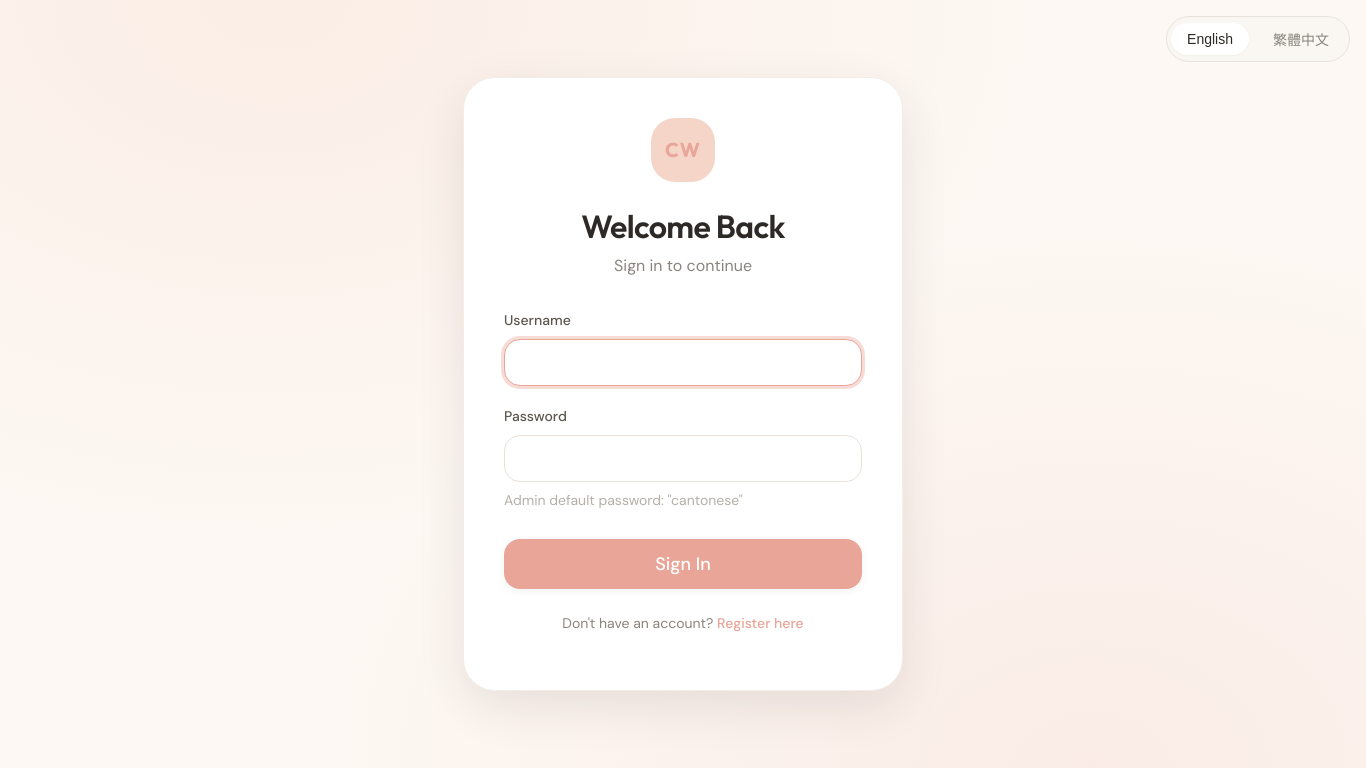
Test: LoginPage › should show error on invalid login
Type "invalid" into the field labelled "Username" at (683, 362), box [504,339,862,386]
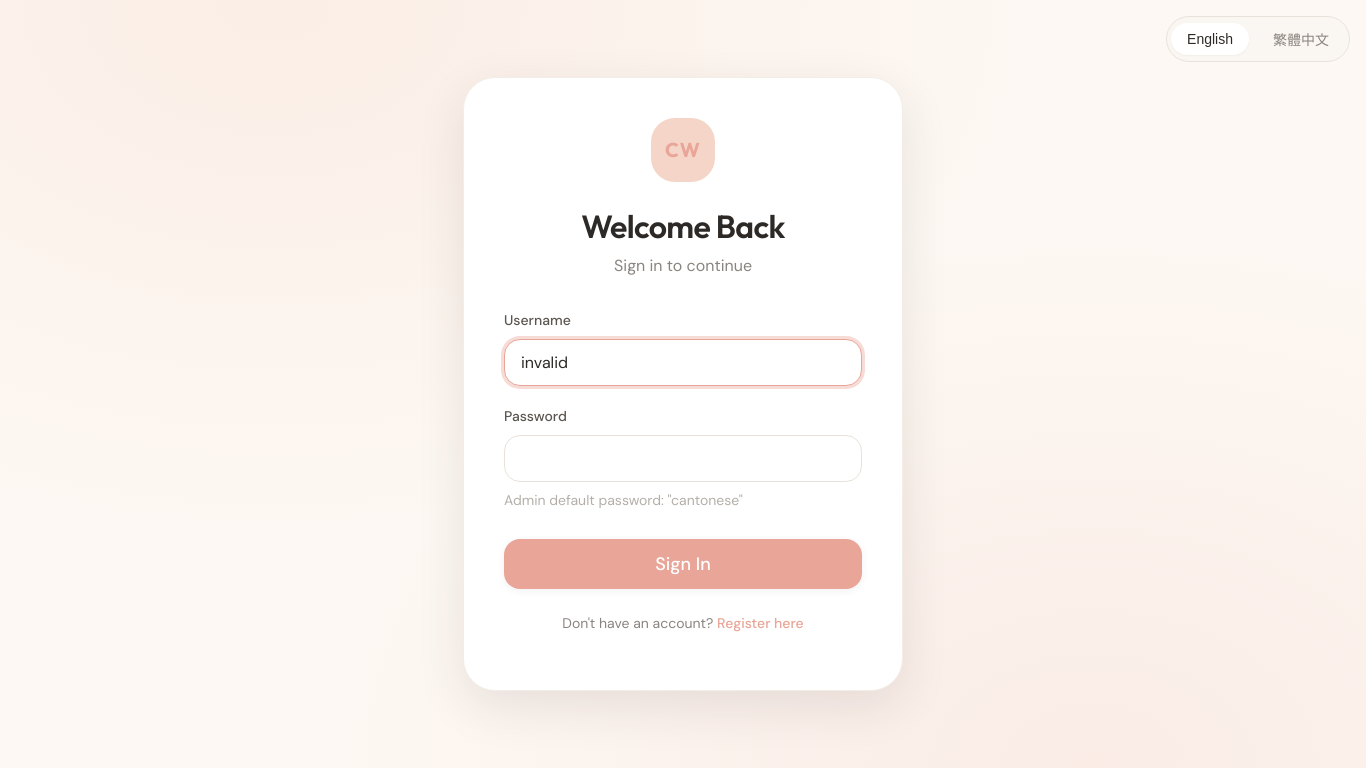
Type "wrong" into the password field labelled "Password" at (683, 458), box [504,435,862,482]
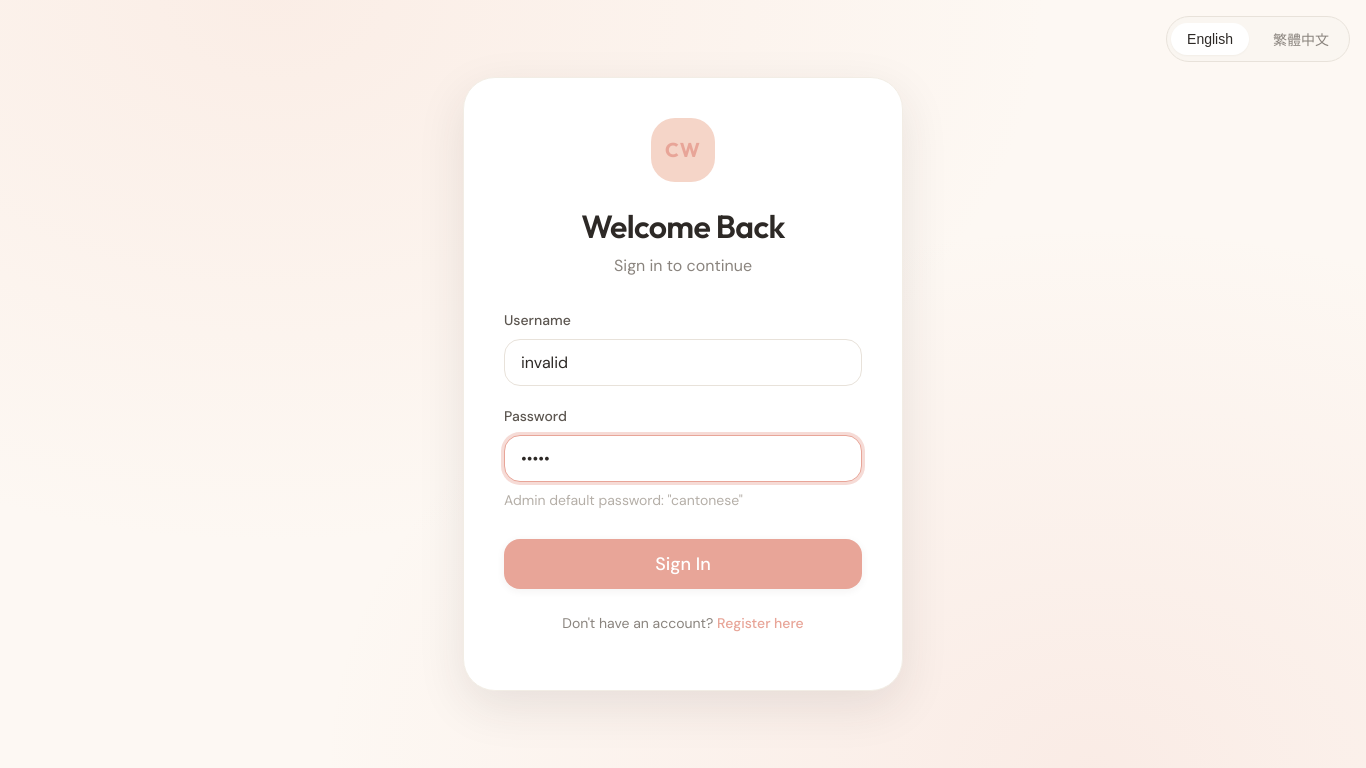
Click the button "Sign In" at (683, 564), box [504,539,862,589]
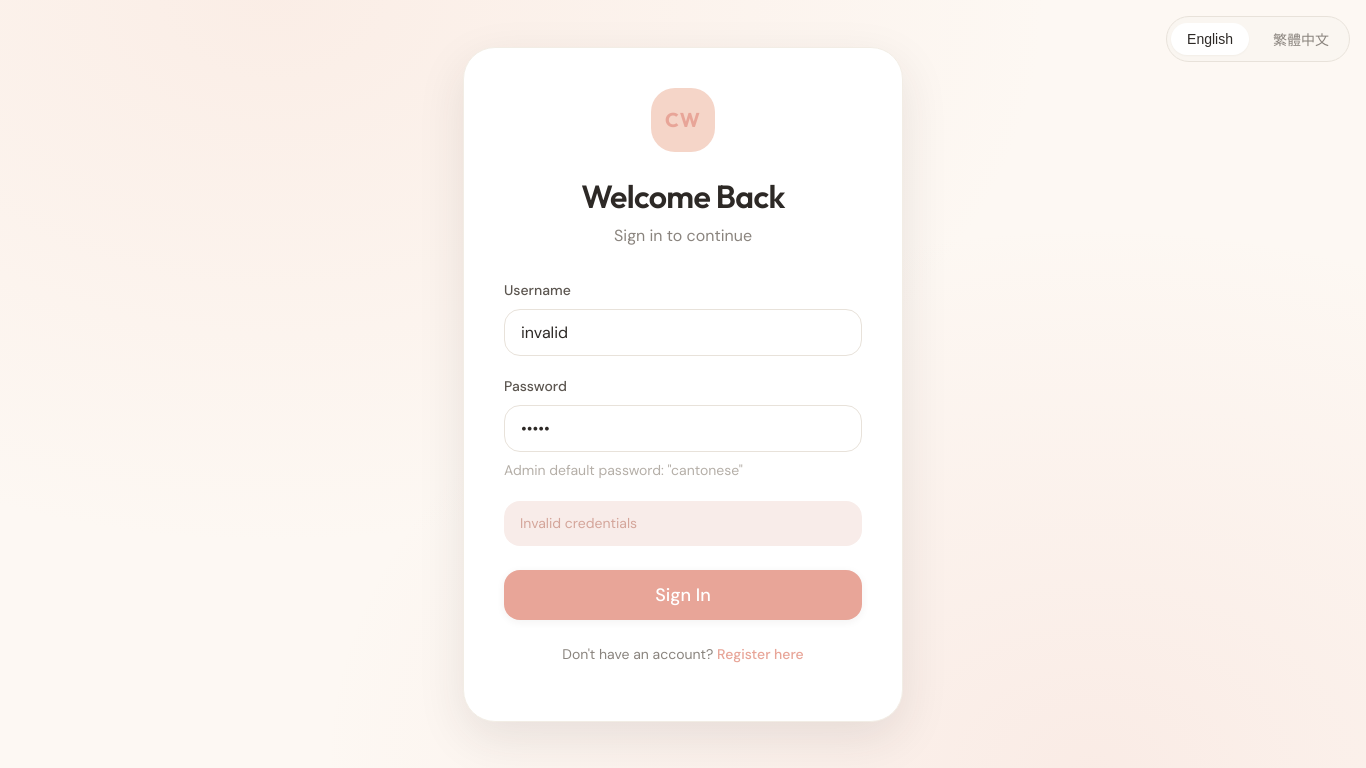
Result: the text "Invalid credentials" is shown at [504,500,862,546]
